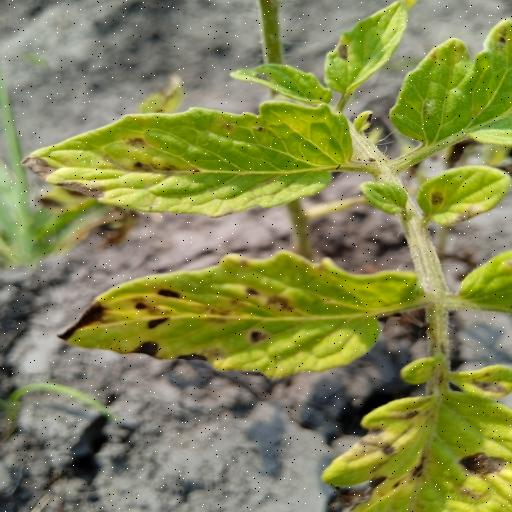Tomato_Brown_Spots: (53, 247, 434, 382), (17, 96, 359, 219), (319, 359, 512, 512)
